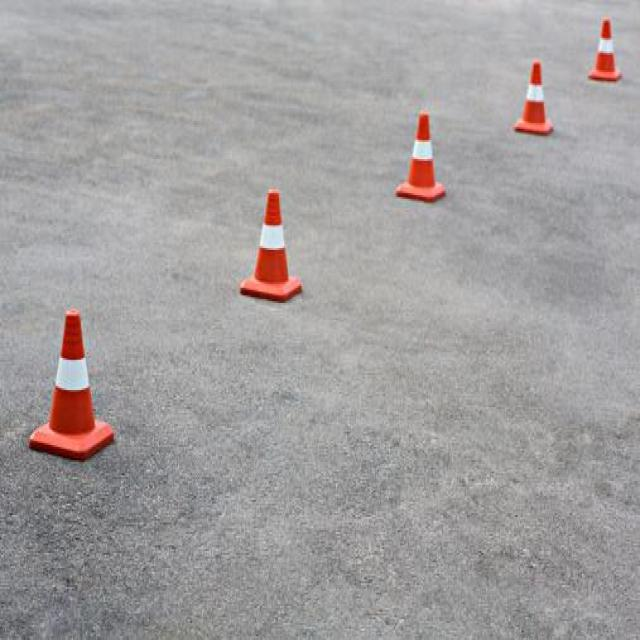Cone: (30, 309, 116, 462), (240, 187, 304, 307), (394, 110, 447, 204), (514, 57, 558, 136), (588, 15, 624, 85)
